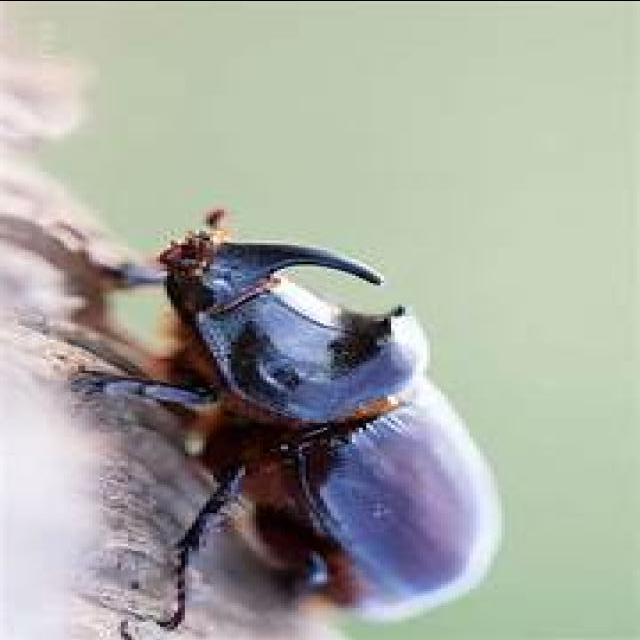Rhino-beetle: (55, 177, 513, 640)
